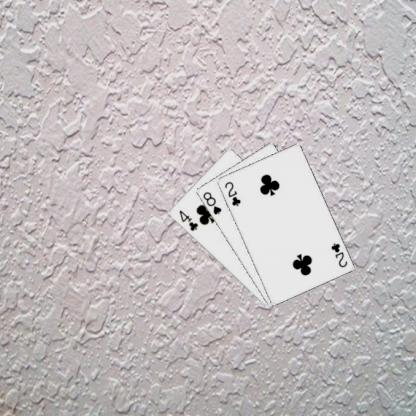2C: (221, 178, 242, 208), (328, 240, 349, 269)
4C: (176, 208, 200, 232)
8S: (200, 189, 223, 216)
